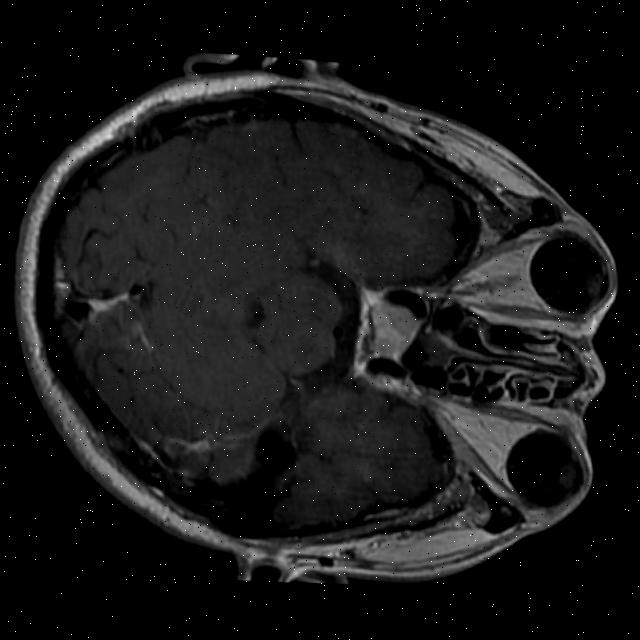Pituitary: (369, 302, 422, 359)
